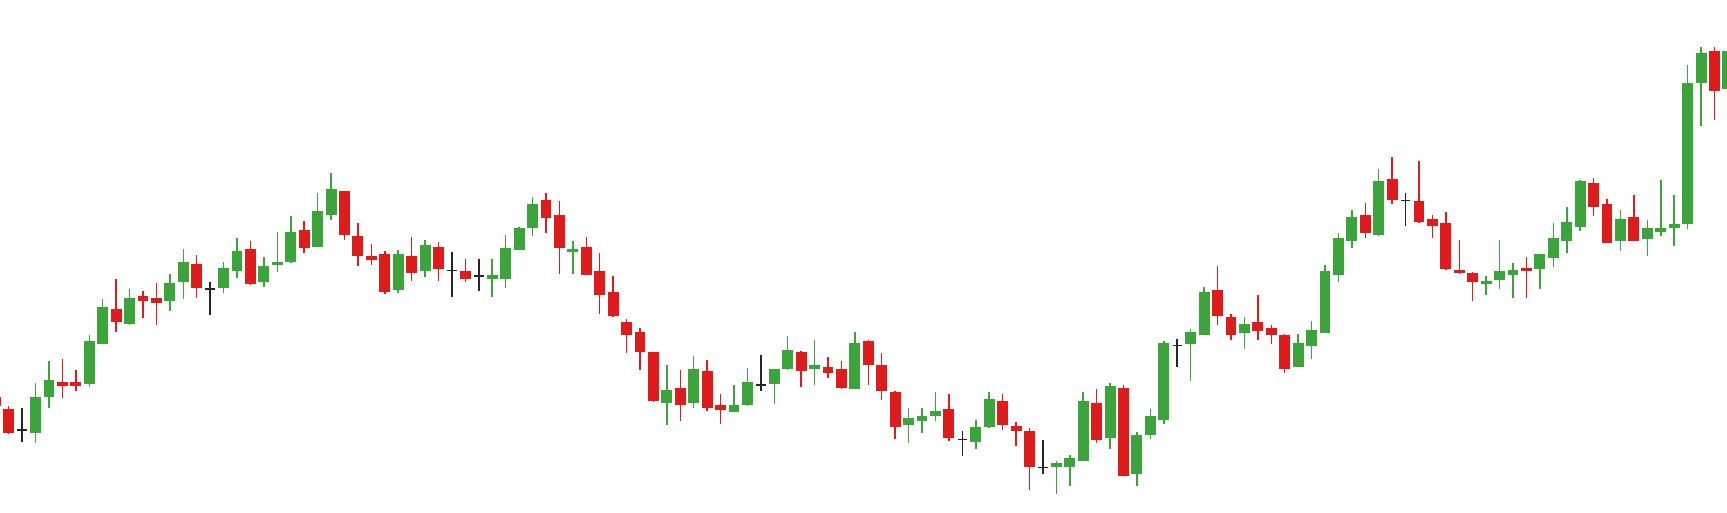buy: (957, 411, 1093, 495)
